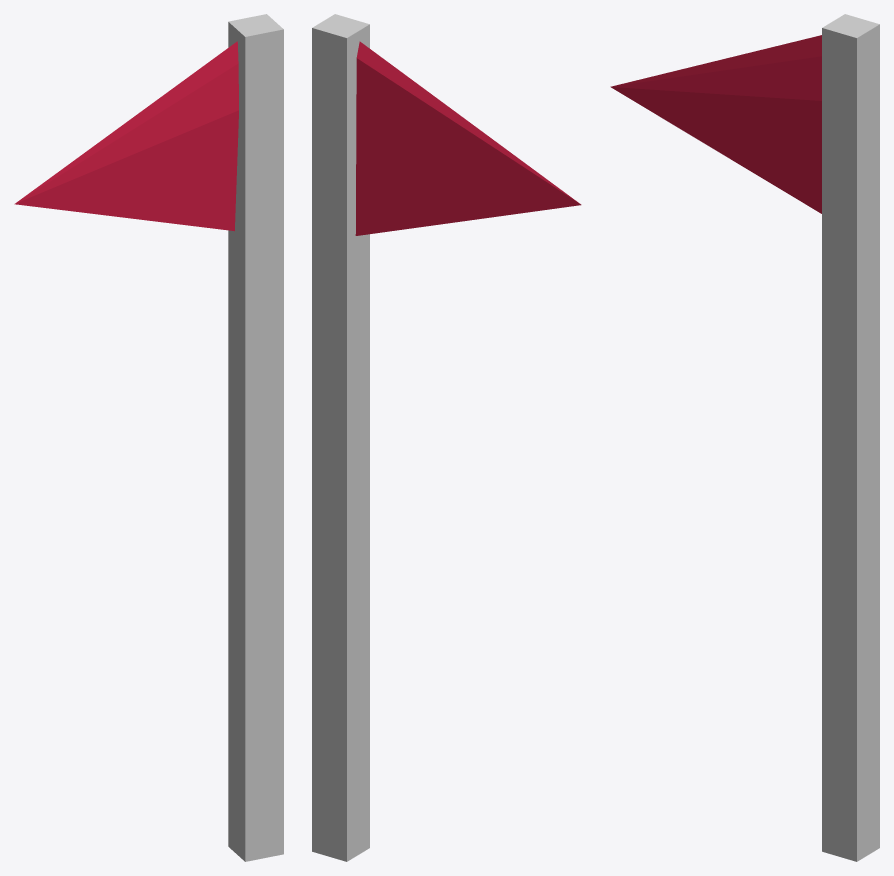
Rendered from Flag1.fbx.
3 renders of one model, left to right at view 1: azimuth 30°, elevation 25°; view 2: azimuth 150°, elevation 25°; view 3: azimuth 330°, elevation 25°, orthographic.
Parts seen in each view (by area): view 1: Cube, mesh_0; view 2: Cube, mesh_0; view 3: Cube, mesh_0.
Boxes of the visible parts, <box> form: Cube: <box>228,14,283,861</box>; mesh_0: <box>14,41,238,231</box>; Cube: <box>312,14,369,861</box>; mesh_0: <box>355,41,581,235</box>; Cube: <box>822,14,879,861</box>; mesh_0: <box>610,35,821,213</box>.
Bounding box in the file's own units: 624 × 1880 × 90.31.
